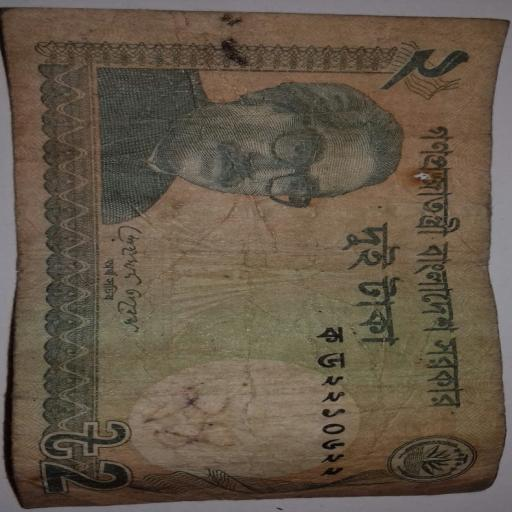2taka: (8, 14, 496, 502)
